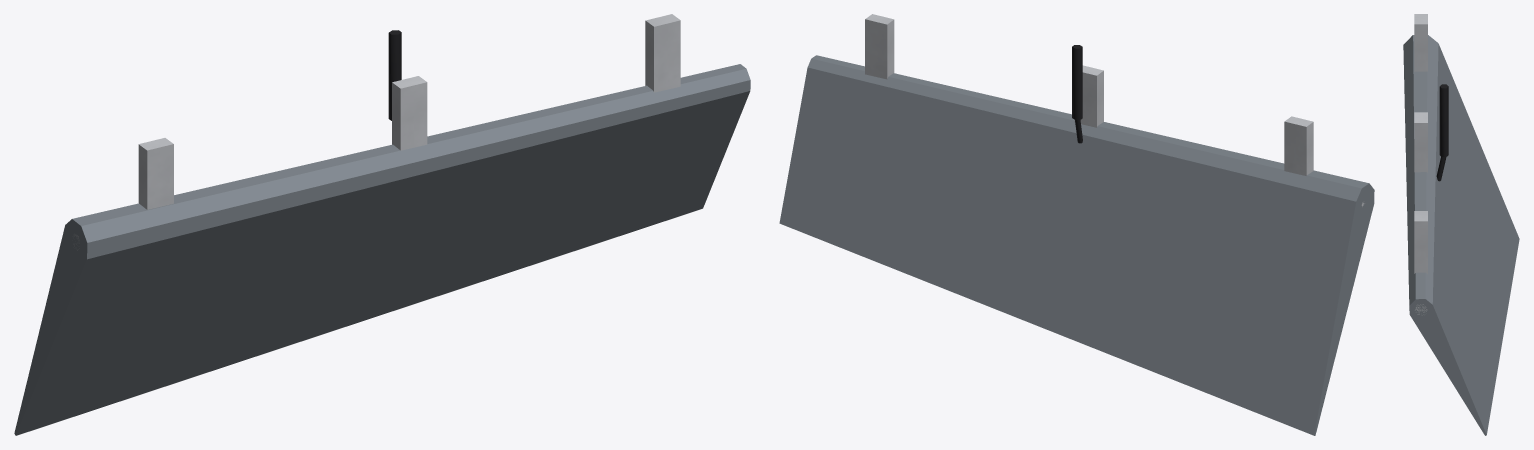
Rendered from jet09_control_surface_rudder_m_defl_pos.glb.
3 renders of one model, left to right at view 1: azimuth 30°, elevation 25°; view 2: azimuth 150°, elevation 25°; view 3: azimuth 270°, elevation 25°, orthographic. The views are drawn at different scales.
Visible parts, largest first — view 1: surface, hinge_fittings, actuator; view 2: surface, hinge_fittings, actuator; view 3: surface, hinge_fittings, actuator.
Part boxes in pixels (box(x1,y1,x2,y2)): surface: box(14, 64, 750, 435); hinge_fittings: box(73, 14, 680, 250); actuator: box(388, 30, 401, 120); surface: box(779, 55, 1374, 435); hinge_fittings: box(865, 14, 1364, 206); actuator: box(1072, 45, 1082, 143); surface: box(1403, 35, 1519, 435); hinge_fittings: box(1414, 14, 1427, 315); actuator: box(1436, 84, 1448, 181).
Size of the model in its own units: 3.2 by 1.63 by 0.6067.
3 materials, 1 textured.
